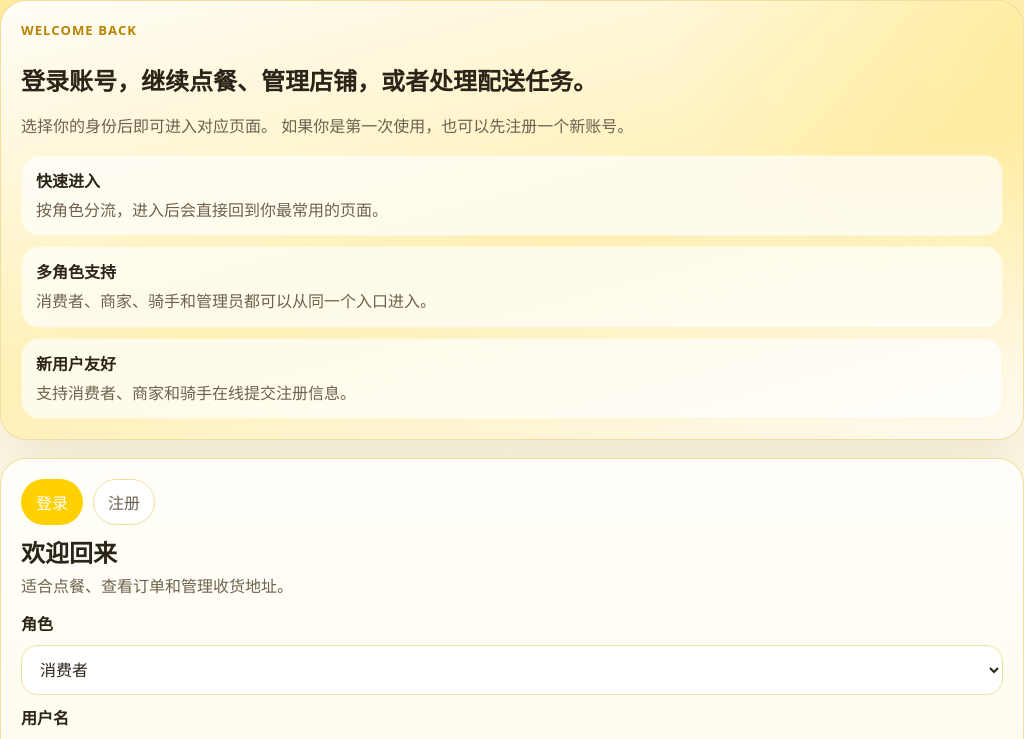
Login page › keeps admin available for login but hides it on the register form
The width and height of the screenshot is (1024, 739).
Select "管理员" in the dropdown labelled "角色" at (512, 670), box x1=21 y1=645 x2=1003 y2=695
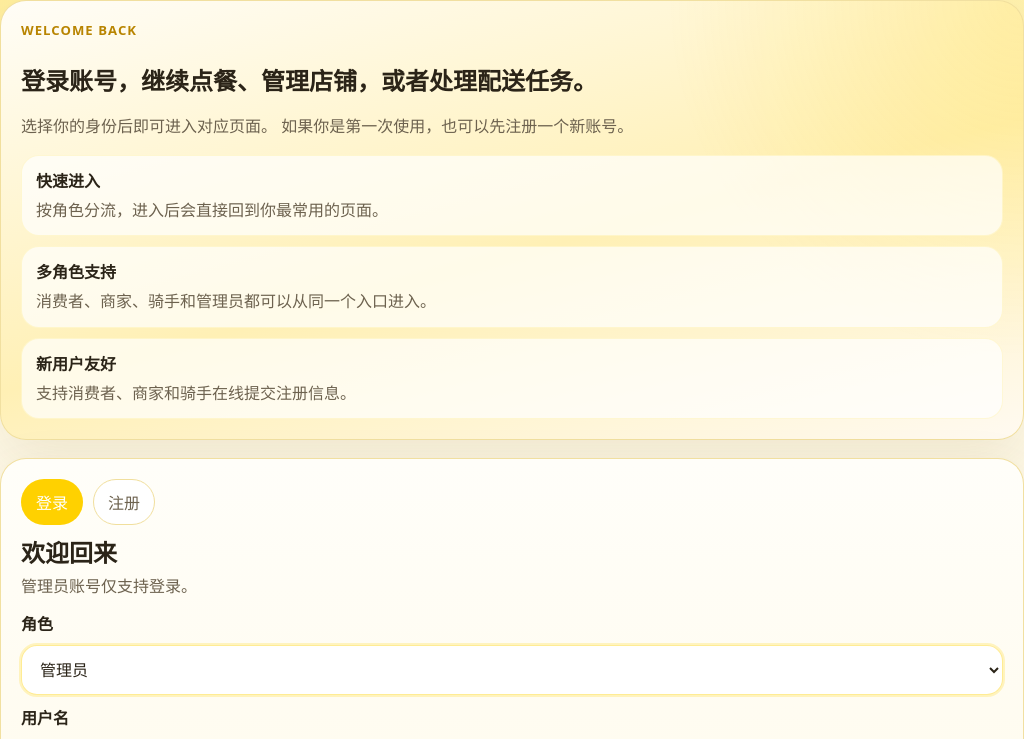
Click the button "注册" at (124, 502), box x1=93 y1=479 x2=155 y2=525
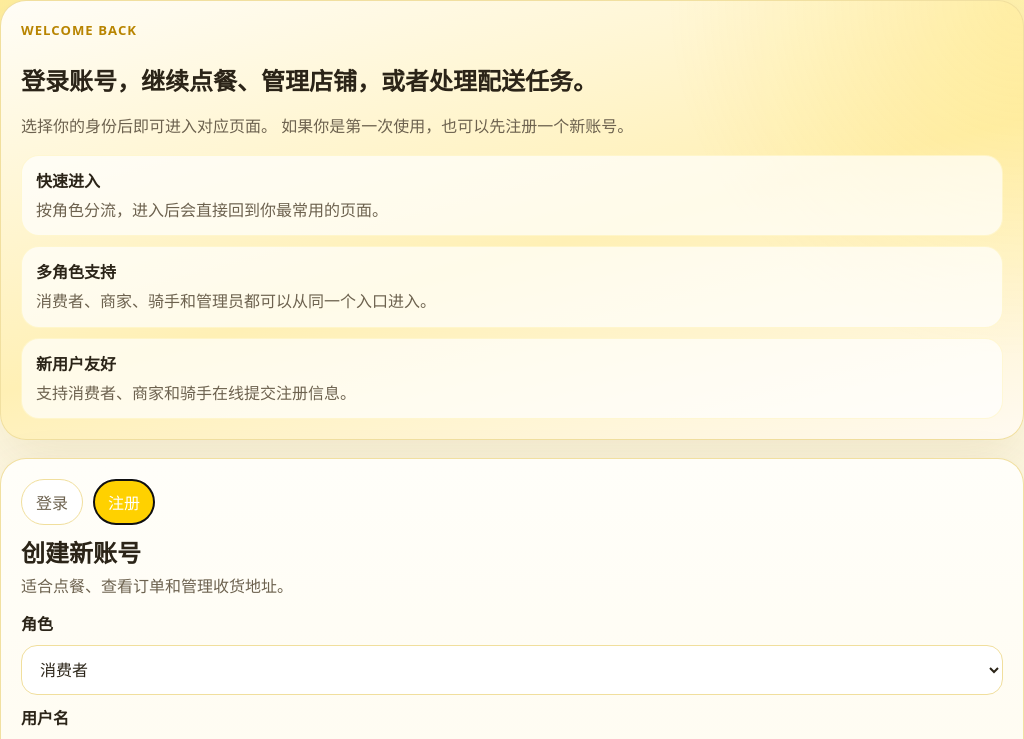
Result: the heading "创建新账号" is shown at x1=21 y1=536 x2=141 y2=569
